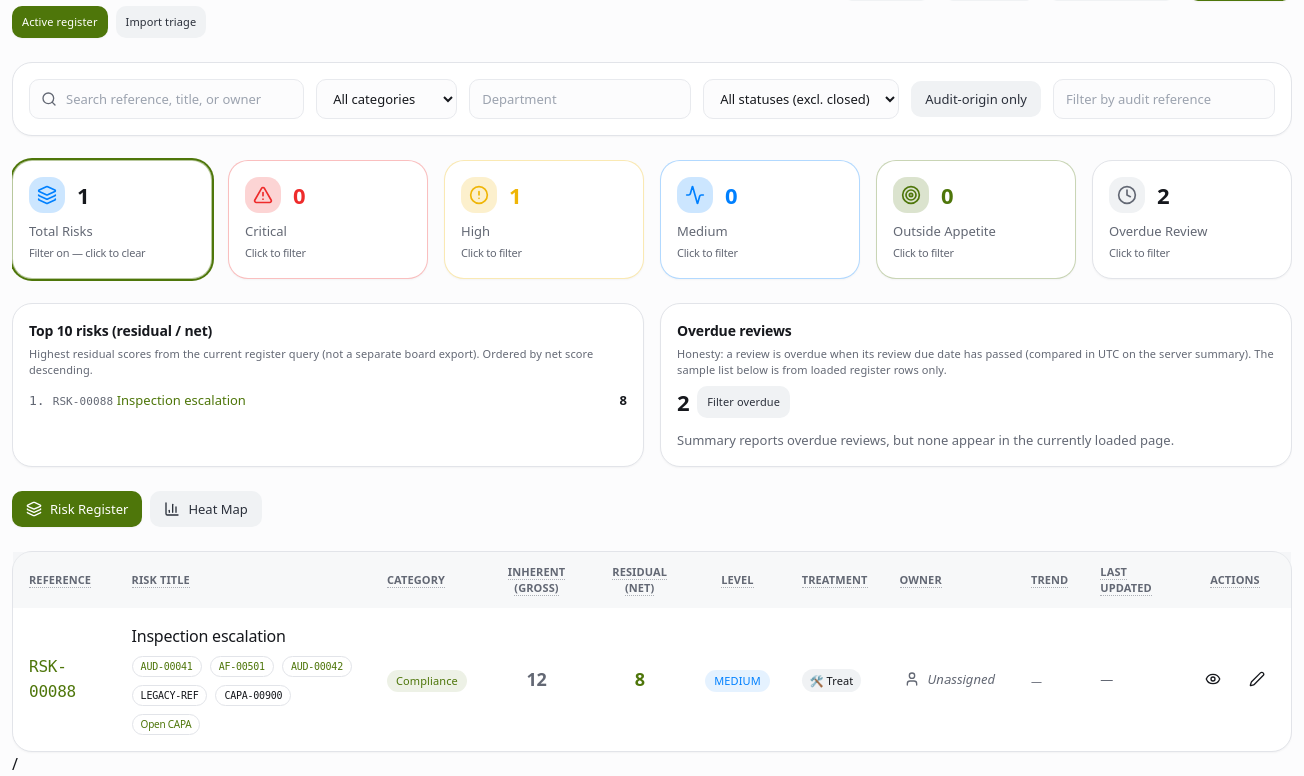
it: RiskRegister linked audit references › row click opens Risk Profile — no detail popup
The image size is (1304, 776).
(page scrolled)
Step 1. Click the button with test id "risk-row-88" → (652, 679), box [13,608,1291,750]
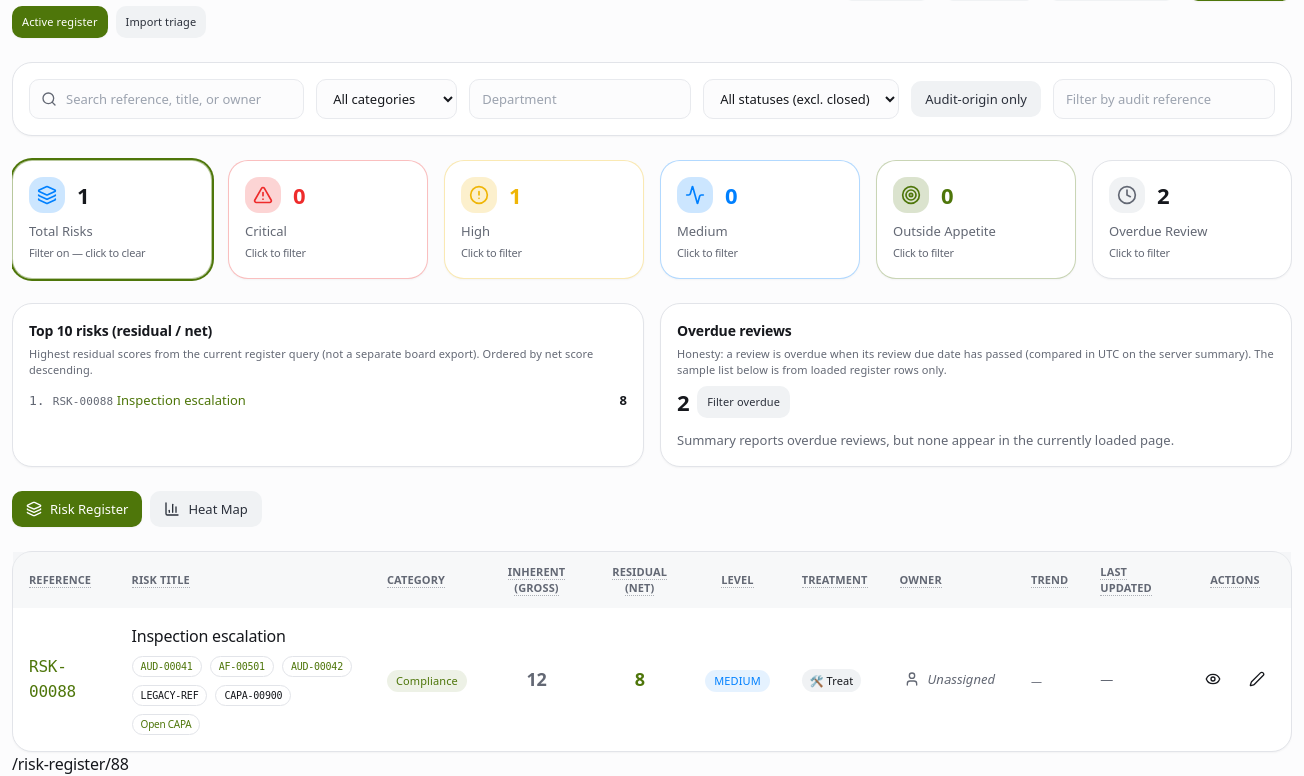
Check: the text with test id "location-probe" reads "/risk-register/88", box [12,752,129,774]
